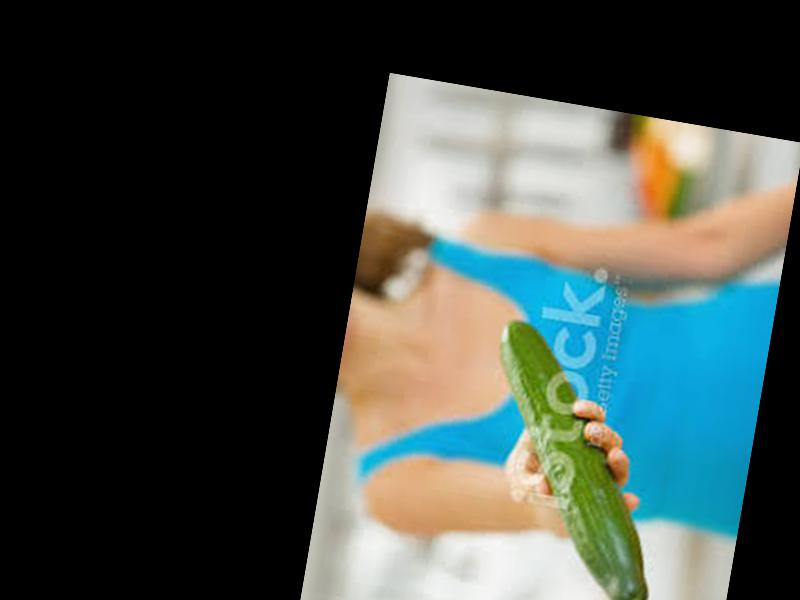Cucumber: (459, 317, 691, 600)
